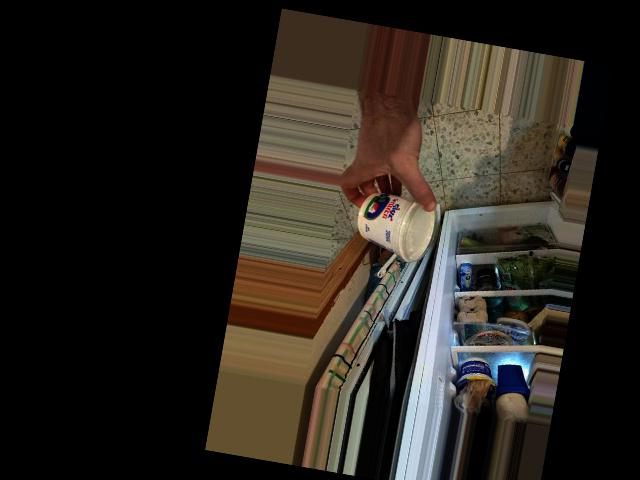cotage: (349, 177, 443, 267)
